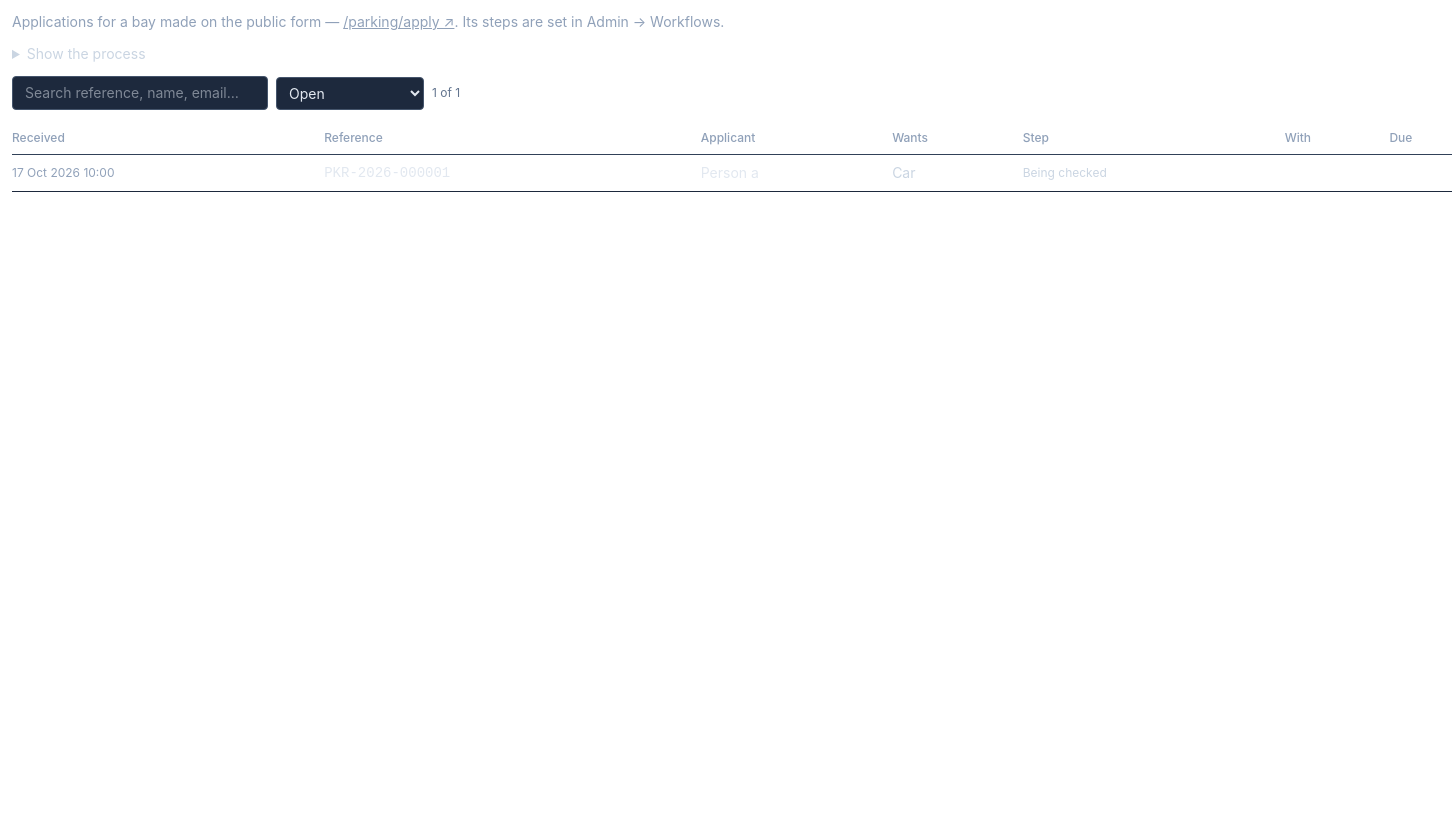
Parking → Applications › offers the moves from its step; one needing a note waits for it; accepting re-reads the waiting list
Click the text "PKR-2026-000001". click: click(387, 173)
box: [324,154,701,192]
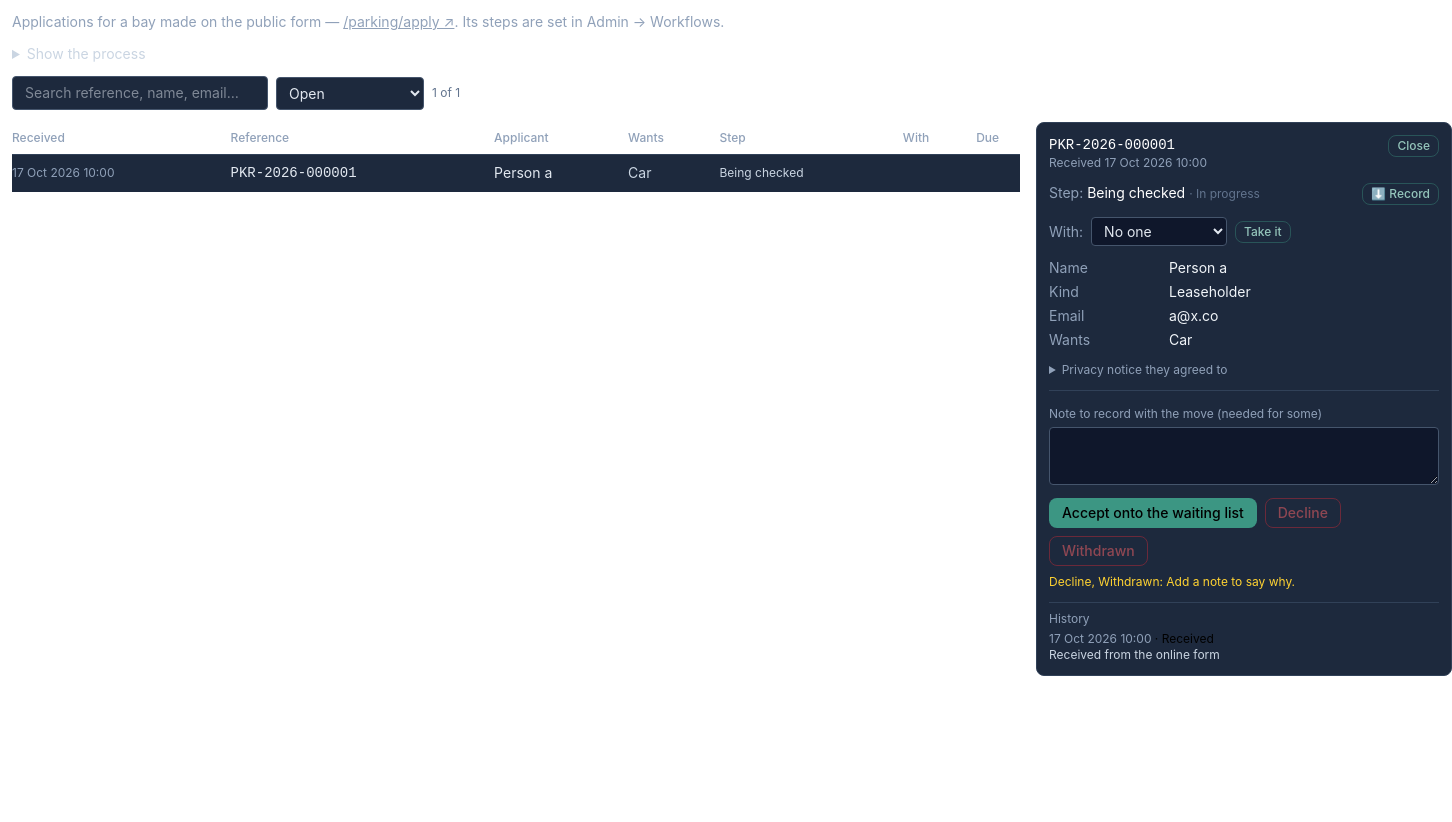
Now the element with test id "application-panel" shows "a@x.co", box [1169,307,1218,324]
Now the button "Decline" is disabled, box [1265,498,1341,528]
Click the button "Accept onto the waiting list". click: click(1153, 513)
box: [1049,498,1257,528]
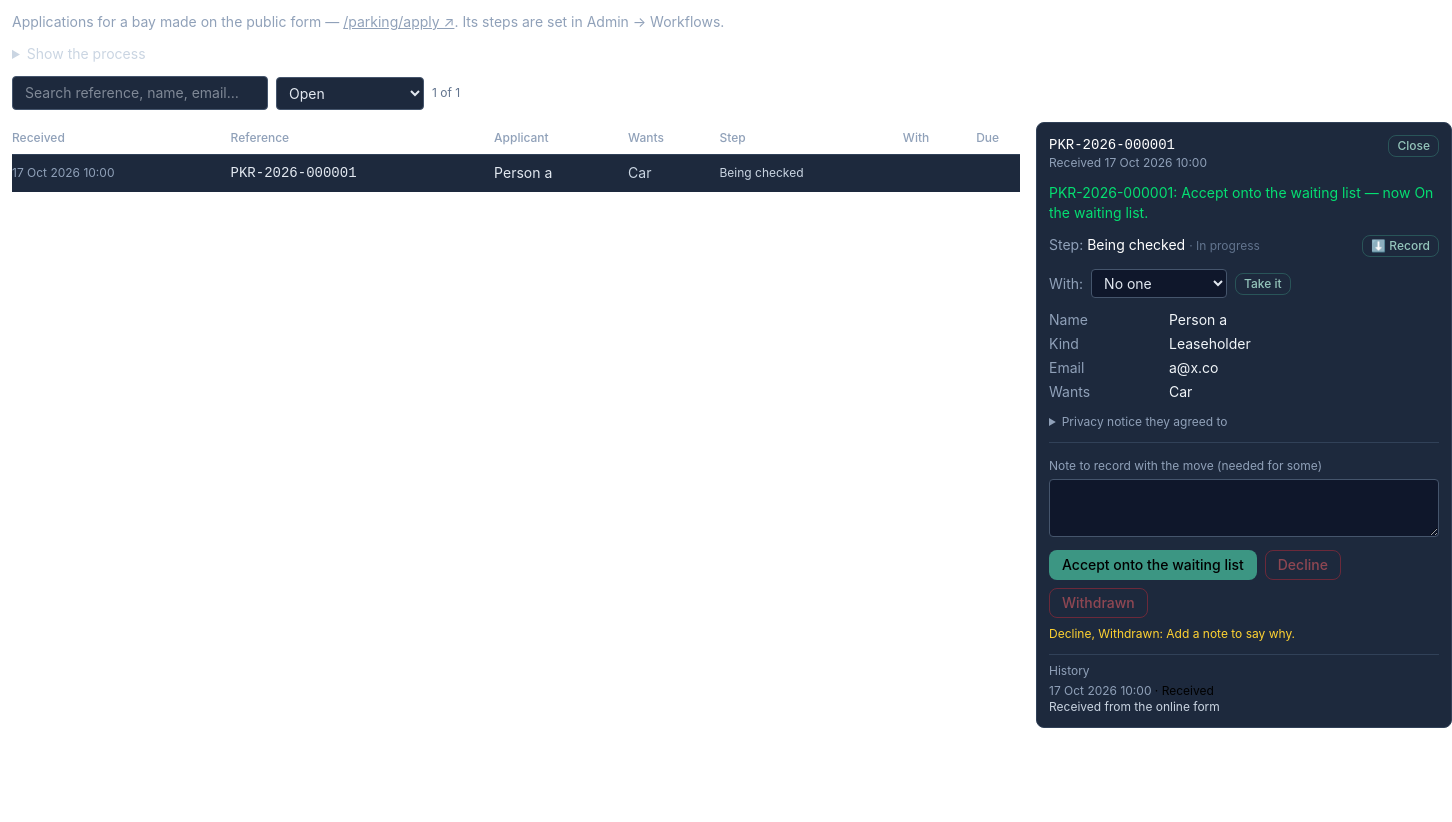
Now the list with test id "wf-history" is shown, box [1049,683,1220,714]
Now the message reads "PKR-2026-000001: Accept onto the waiting list — now On the waiting list.", box [1049,184,1433,221]
